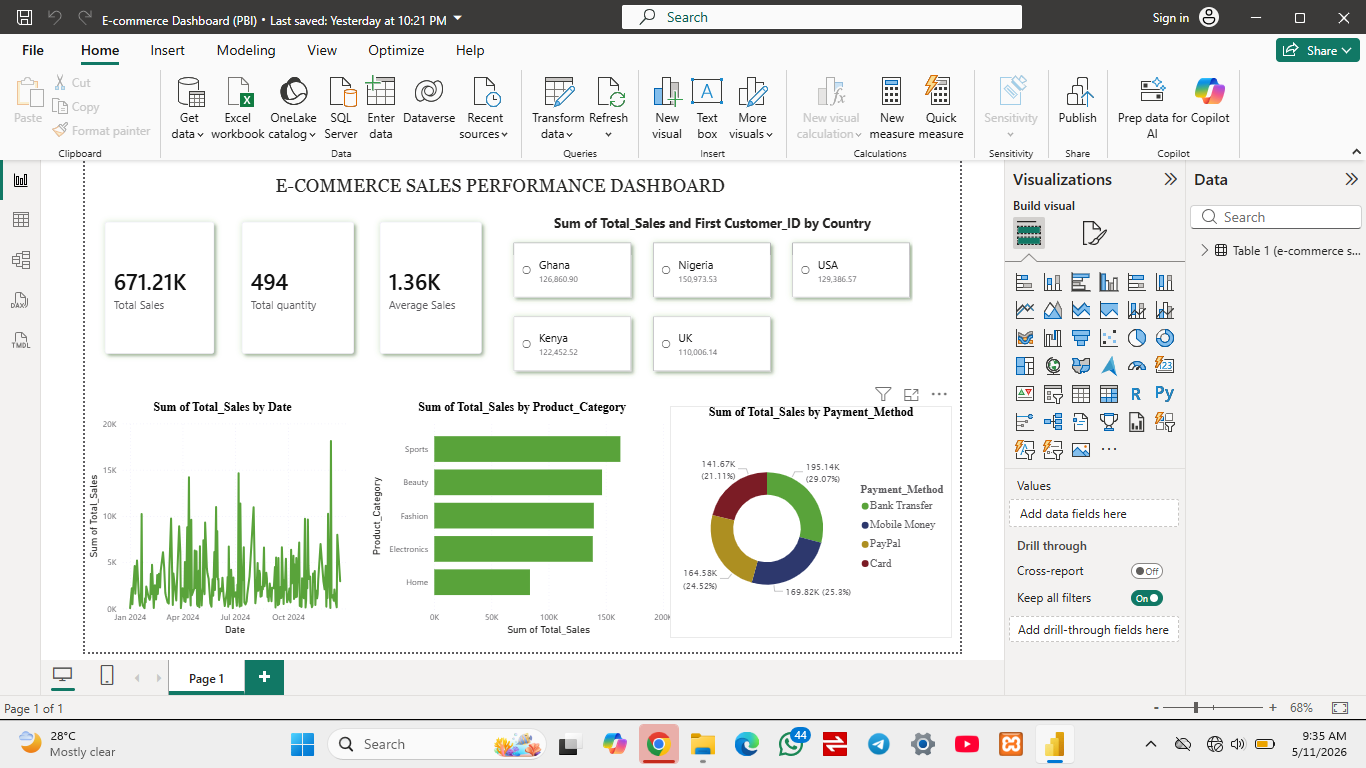

This screenshot's page, from the dashboard's own definition file:
{"tool":"powerbi","page":{"name":"Page 1","canvas":[1280,720],"ordinal":0},"visuals":[{"type":"cardVisual","fields":{"Data":["Table 1 (e-commerce sales data).Total Sales"]},"box":[0,61.5,218,251.7],"z":0},{"type":"cardVisual","fields":{"Data":["Table 1 (e-commerce sales data).Total quantity"]},"box":[200.5,61.5,222.4,251.7],"z":1000},{"type":"clusteredBarChart","fields":{"Category":["Table 1 (e-commerce sales data).Product_Category"],"Y":["Sum(Table 1 (e-commerce sales data).Total_Sales)"]},"box":[414.1,352.7,450.7,346.8],"z":2000},{"type":"donutChart","fields":{"Category":["Table 1 (e-commerce sales data).Payment_Method"],"Y":["Sum(Table 1 (e-commerce sales data).Total_Sales)"]},"box":[856.1,360,412.7,339.5],"z":3000},{"type":"lineChart","fields":{"Y":["Sum(Table 1 (e-commerce sales data).Total_Sales)"],"Category":["Table 1 (e-commerce sales data).Date"]},"box":[0,352.7,402.4,346.8],"z":5000},{"type":"textbox","box":[273.8,17.3,673.9,43.9],"z":6000},{"type":"advancedSlicerVisual","fields":{"Values":["Table 1 (e-commerce sales data).Country"],"Label":["Sum(Table 1 (e-commerce sales data).Total_Sales)"]},"box":[610.2,79,616.1,247.3],"z":10000},{"type":"cardVisual","fields":{"Data":["Table 1 (e-commerce sales data).Average Sales"]},"box":[402.4,61.5,207.8,251.7],"z":10001}]}

Visuals, with their boxes on the page's 1280x720 design canvas (x1, y1, x2, y2). These are canvas units, not pixel positions in the 1366x768 screenshot, which may show the page scaled, cropped or inside an application window:
cardVisual - Table 1 (e-commerce sales data).Total Sales: bbox=(0, 62, 218, 313)
cardVisual - Table 1 (e-commerce sales data).Total quantity: bbox=(200, 62, 423, 313)
clusteredBarChart - Table 1 (e-commerce sales data).Product_Category x Sum(Table 1 (e-commerce sales data).Total_Sales): bbox=(414, 353, 865, 700)
donutChart - Table 1 (e-commerce sales data).Payment_Method x Sum(Table 1 (e-commerce sales data).Total_Sales): bbox=(856, 360, 1269, 700)
lineChart - Sum(Table 1 (e-commerce sales data).Total_Sales) x Table 1 (e-commerce sales data).Date: bbox=(0, 353, 402, 700)
textbox: bbox=(274, 17, 948, 61)
advancedSlicerVisual - Table 1 (e-commerce sales data).Country x Sum(Table 1 (e-commerce sales data).Total_Sales): bbox=(610, 79, 1226, 326)
cardVisual - Table 1 (e-commerce sales data).Average Sales: bbox=(402, 62, 610, 313)
